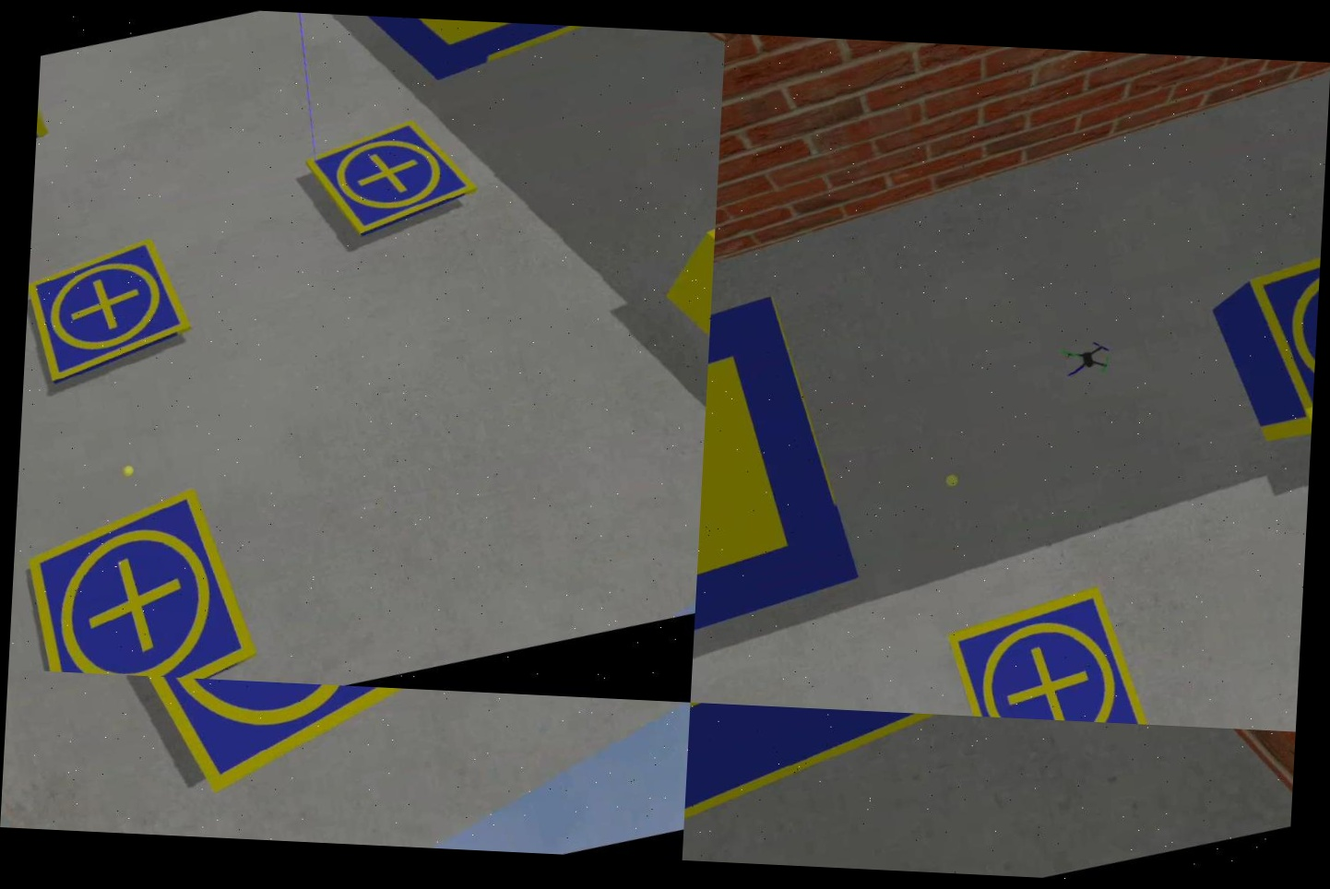large_base: (690, 282, 892, 711), (683, 703, 1075, 878), (333, 15, 641, 112)
small_base: (8, 473, 280, 682), (65, 672, 448, 820), (940, 578, 1173, 726), (23, 227, 204, 392), (298, 104, 489, 257), (1230, 209, 1322, 443)
